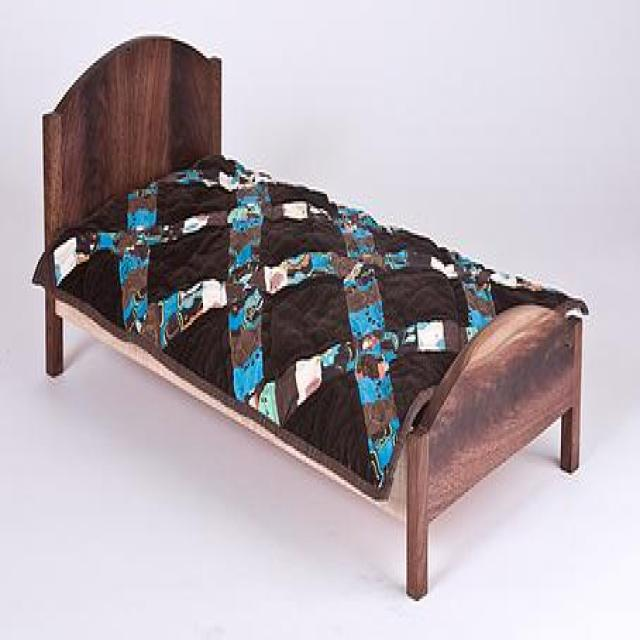bed: (31, 31, 589, 599)
